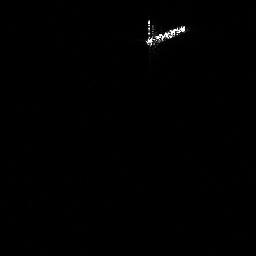ship: (142, 17, 188, 50)
